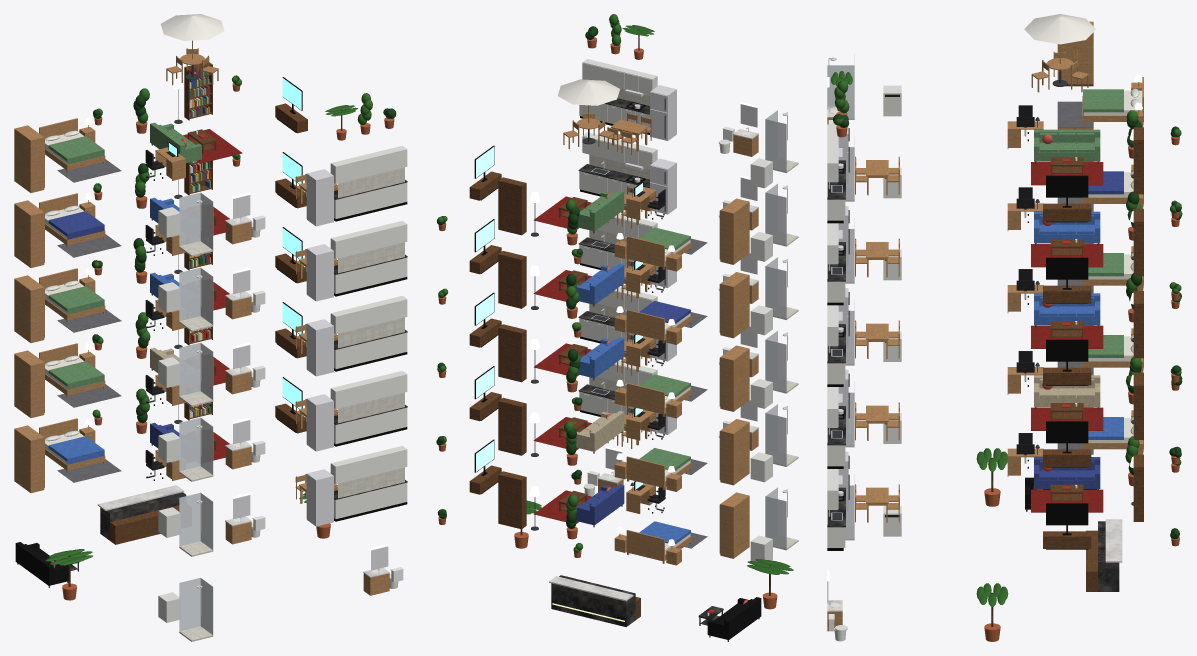
The model's file is i_pod_apartments.gltf.
3 views of the same model, side by side, from view 1: azimuth 30°, elevation 25°; view 2: azimuth 150°, elevation 25°; view 3: azimuth 270°, elevation 25° (orthographic). The views are drawn at different scales.
Visible parts, largest first — view 1: I_pod_apartments; view 2: I_pod_apartments; view 3: I_pod_apartments.
Boxes of the visible parts, x1,y1,x2,y2 form: I_pod_apartments: (14,14,407,641); I_pod_apartments: (436,14,798,641); I_pod_apartments: (827,14,1182,641).
Bounding box in the file's own units: 12.47 × 20.85 × 11.79.
Materials: 39 (15 with a texture image).
